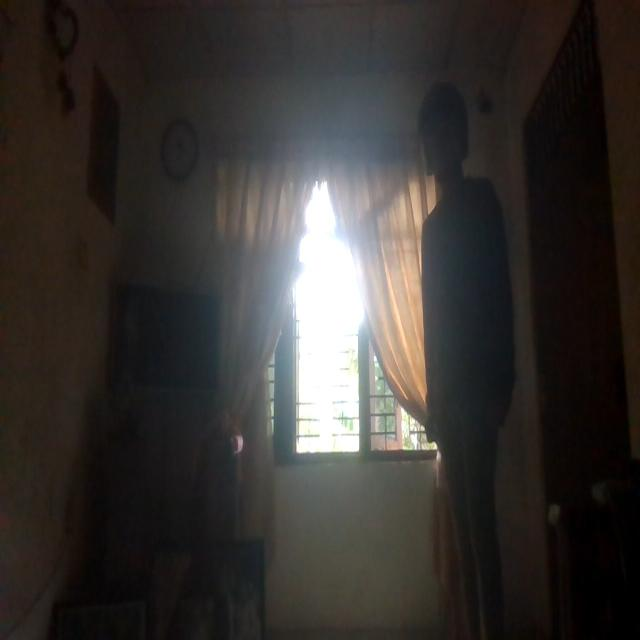Helmet_Wearer: (414, 86, 482, 172)
Person: (411, 86, 528, 640)
